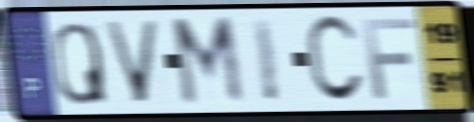C: (303, 12, 368, 107)
F: (360, 15, 419, 102)
I: (250, 15, 283, 106)
M: (168, 13, 248, 110)
Q: (50, 20, 111, 108)
V: (101, 19, 163, 107)
